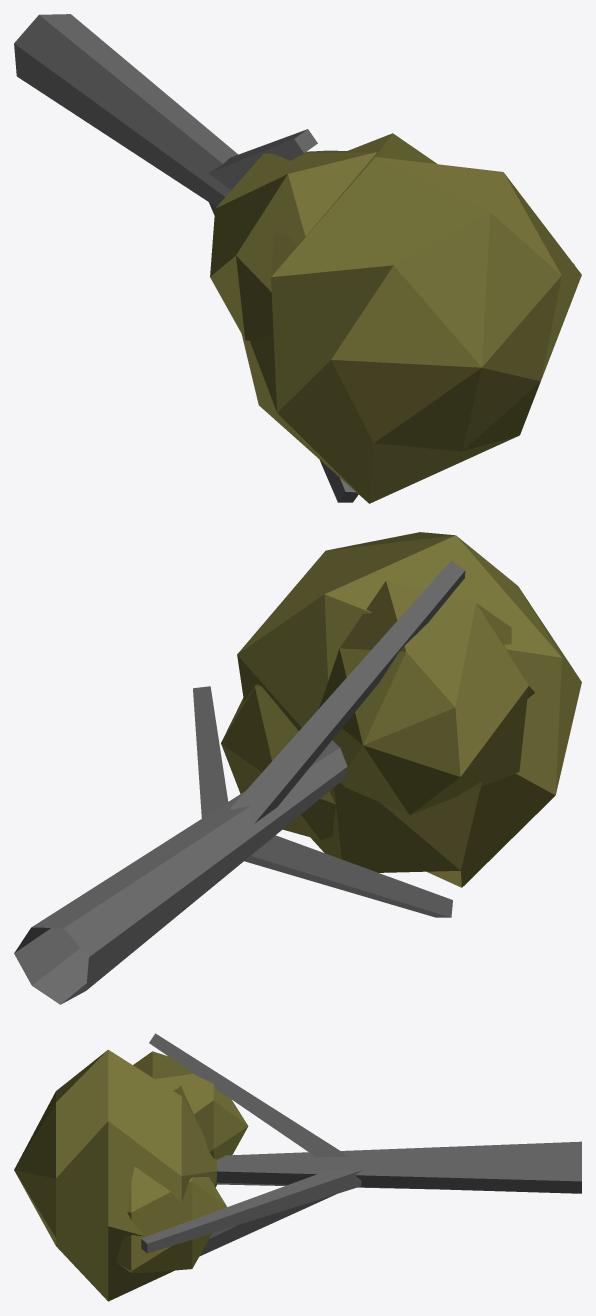
Rendered from dying_1.glb.
The picture shows the model from 3 angles, top to bottom: view 1: azimuth 30°, elevation 25°; view 2: azimuth 150°, elevation 25°; view 3: azimuth 270°, elevation 25°; orthographic projection. The views are drawn at different scales.
Parts seen in each view (by area): view 1: tree_04_dying_1; view 2: tree_04_dying_1; view 3: tree_04_dying_1.
Boxes of the visible parts, box(x1,y1,x2,y2) form: tree_04_dying_1: box(14, 14, 581, 503); tree_04_dying_1: box(14, 532, 581, 1004); tree_04_dying_1: box(14, 1033, 581, 1301).
Size of the model in its own units: 13.2 by 13.95 by 29.59.
